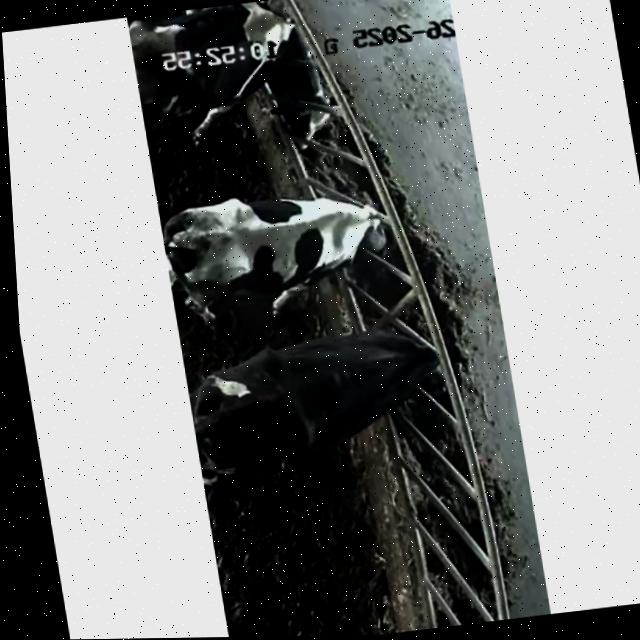eat: (156, 0, 377, 164), (311, 292, 516, 421), (256, 149, 461, 275)
